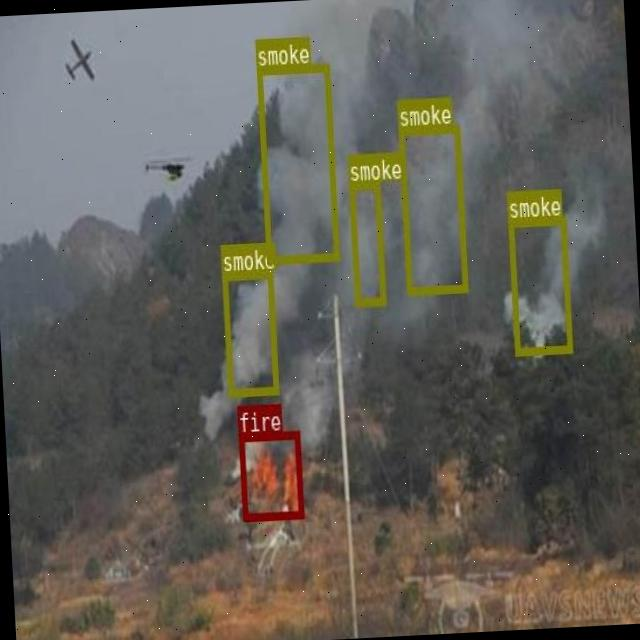fire: (238, 430, 304, 520)
smoke: (257, 64, 339, 262), (398, 124, 467, 294), (508, 215, 571, 355), (222, 270, 278, 396), (349, 181, 385, 306)
